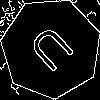U: (26, 23, 83, 82)
